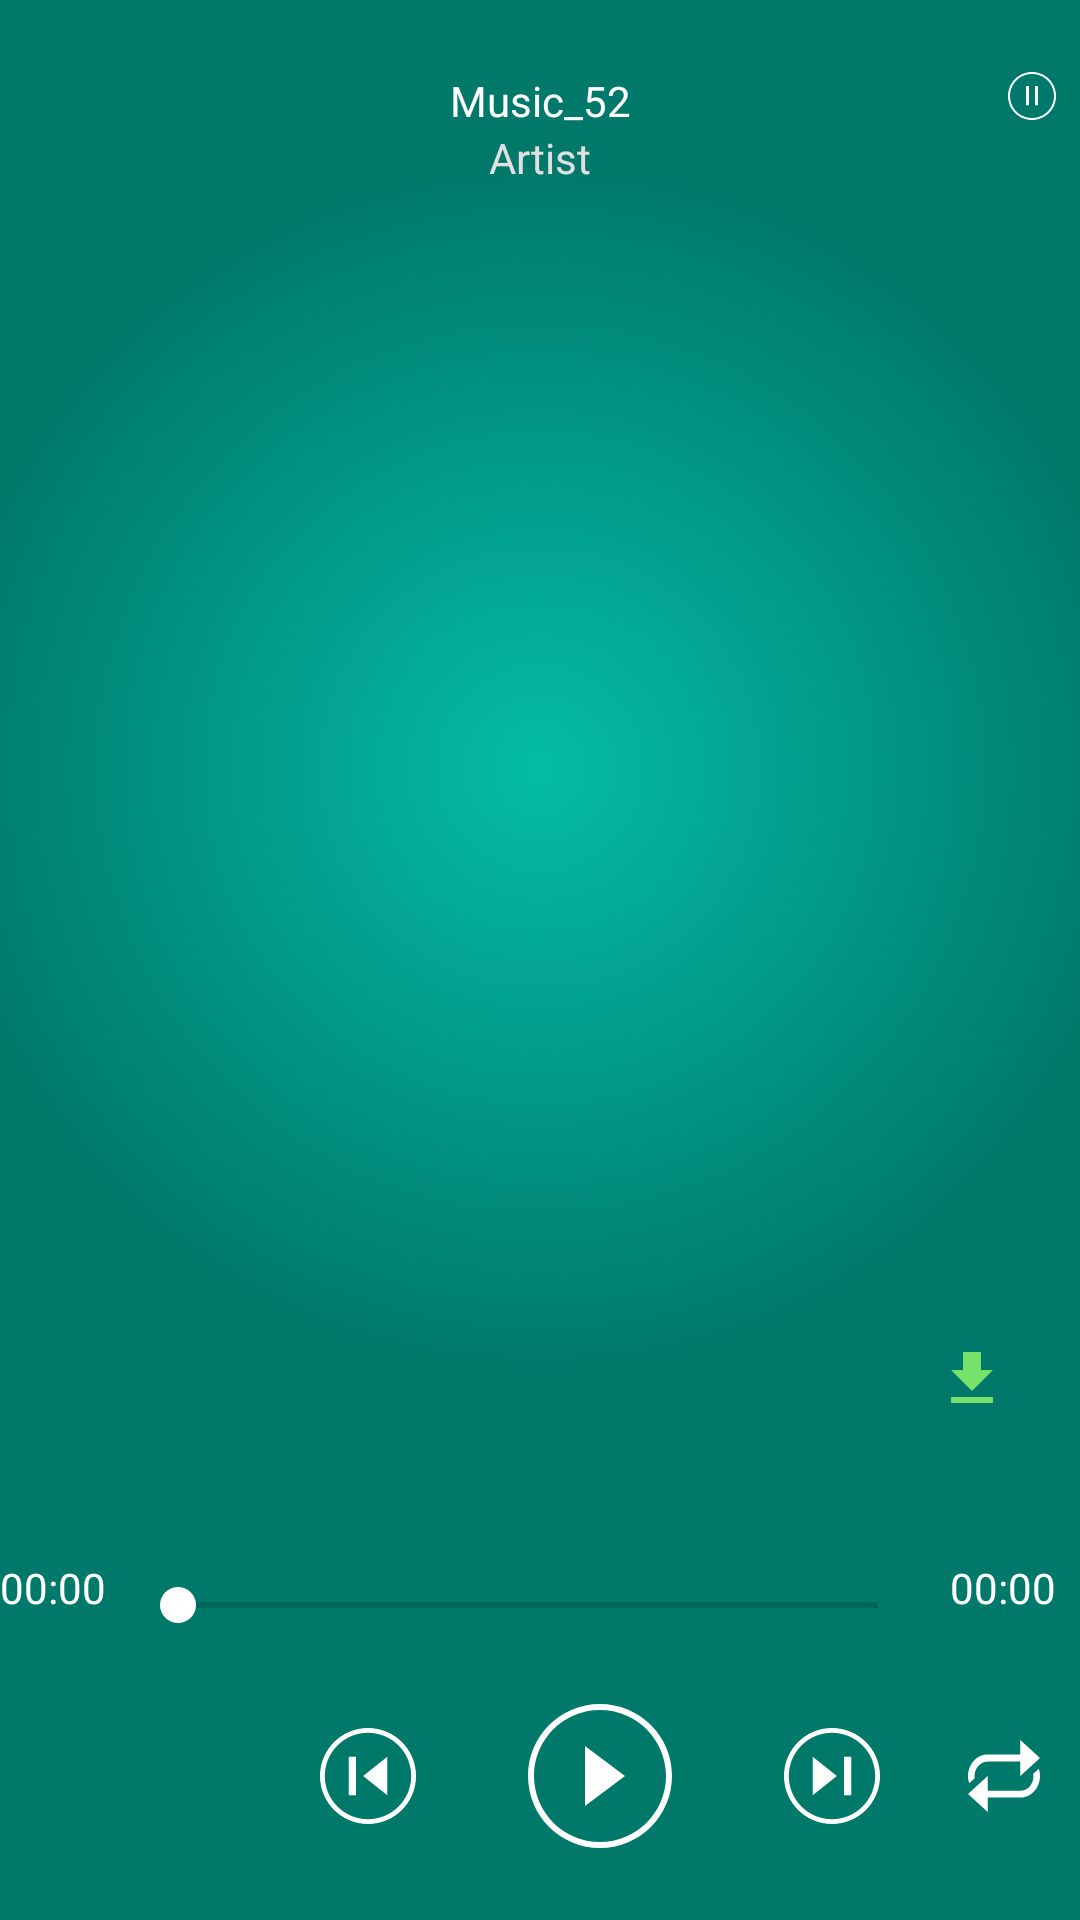

Where to tap for icons on this 1080 × 1920 app screen, as (x,y):
download: (972,1377)
play mode loop: (1004,1776)
play next: (832,1776)
play previous: (368,1776)
play toogle: (600,1776)
